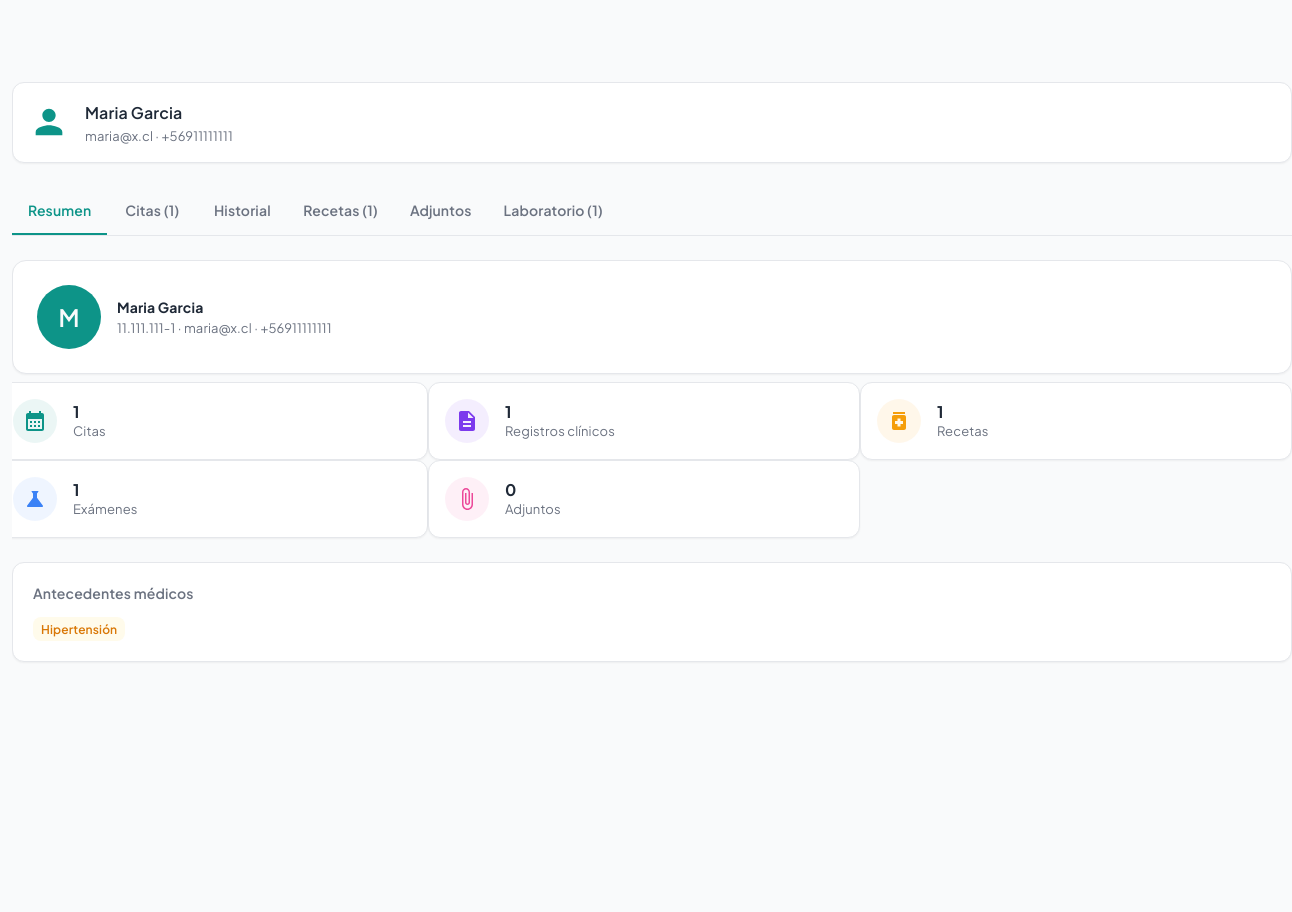
Test: DoctorPatientHistoryPage › switches to the lab tab and lists lab requests
Expected: the 1st heading "Maria Garcia" is shown, [85,102,182,123]
Click the tab "Laboratorio (1)": (553,211) [488,187,619,235]
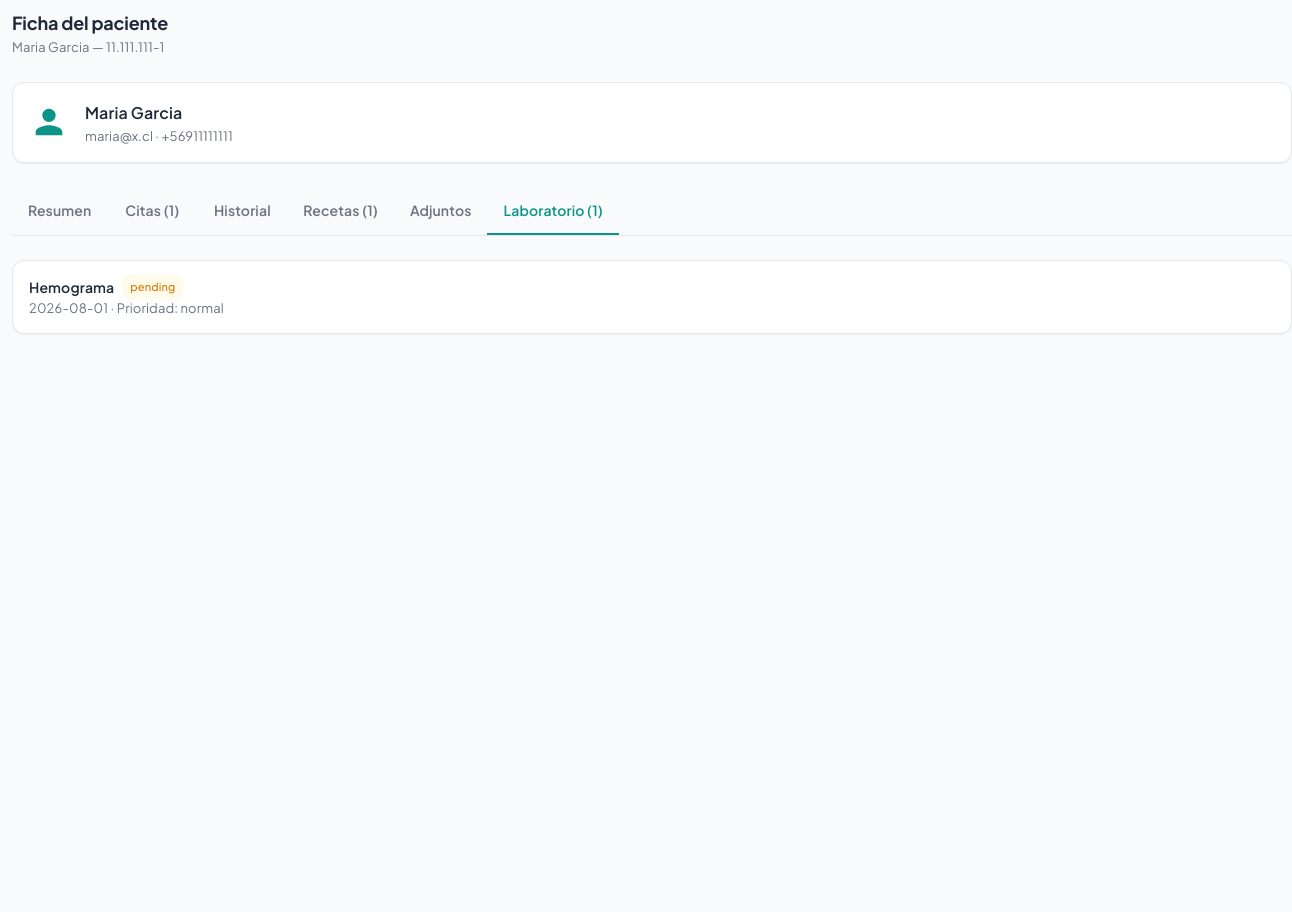
Expected: the text "Hemograma" is shown, [29,276,114,298]
Expected: the text "2026-08-01 · Prioridad: normal" is shown, [29,300,224,316]
